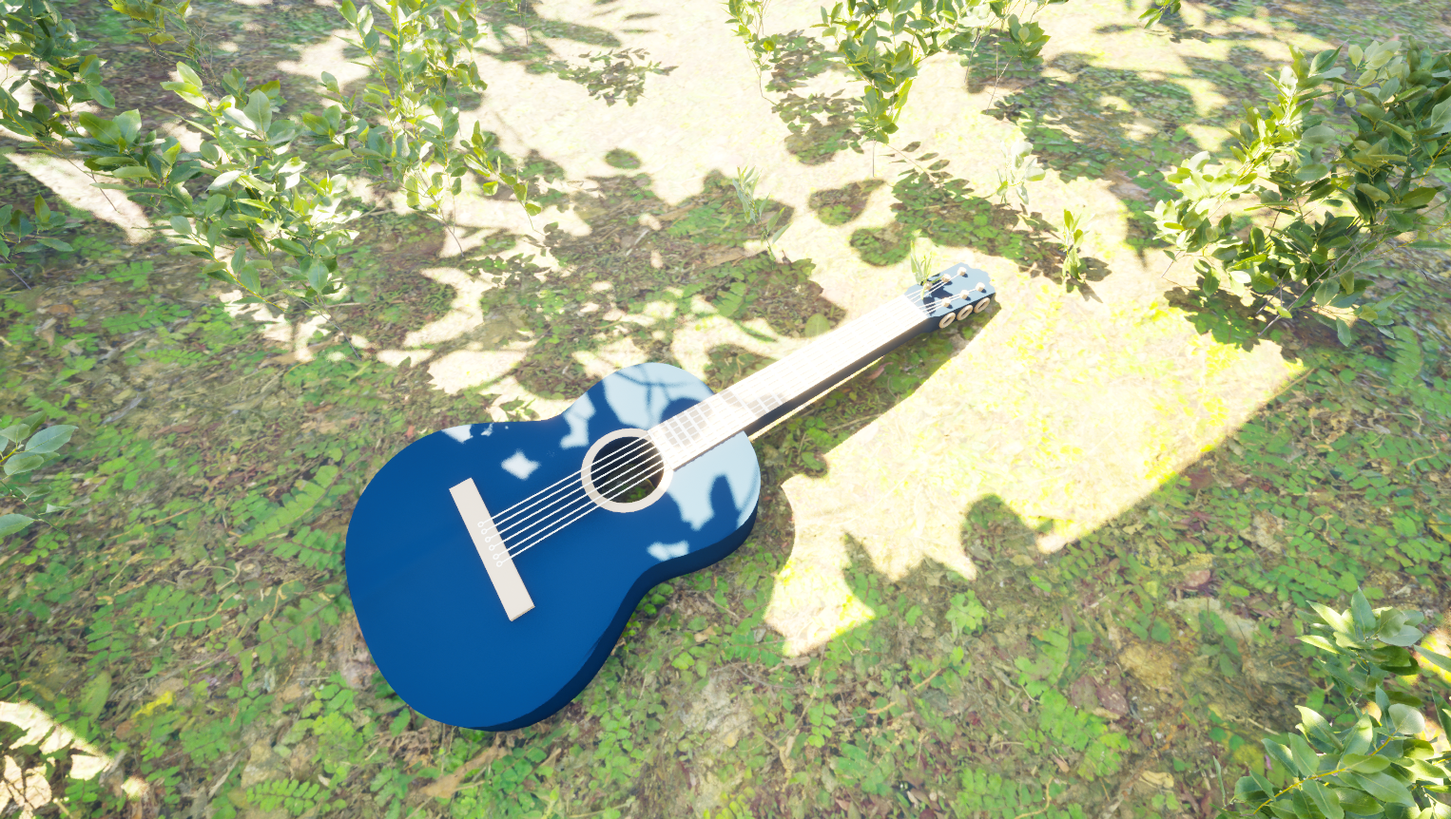Guitar: (311, 191, 1088, 790)
